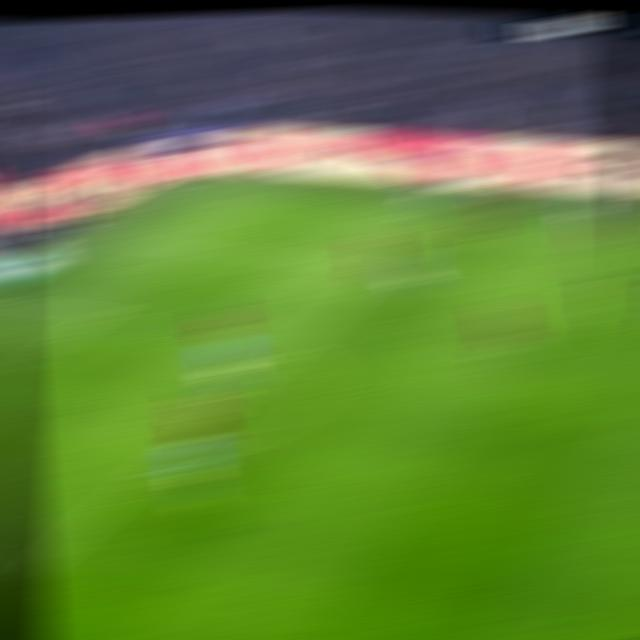bigarea_top_outter: (101, 234, 136, 245)
bottom_arc_area_intersection: (134, 465, 169, 478)
corner: (208, 176, 244, 184)
smallarea_top_inner: (84, 306, 124, 320)
smallarea_top_outter: (0, 297, 27, 307)
top_arc_area_intersection: (275, 340, 311, 354)
